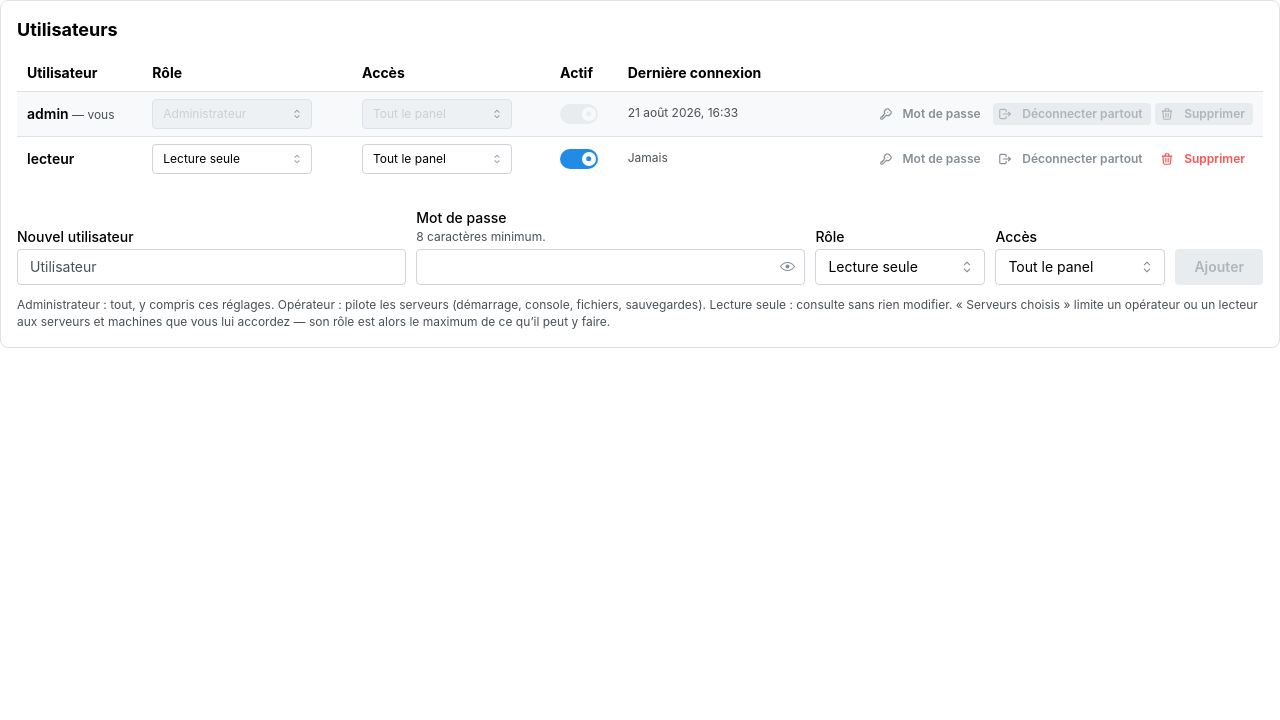
réglages — utilisateurs et audit › liste les comptes, protège le compte courant, crée un utilisateur
Expected: the text "— vous" is shown, 69,107 -> 114,122
Expected: the field with test id "user-role-admin" is disabled, 152,99 -> 312,129
Type "operateur" into the field with test id "user-create-username".
click(212, 267); type("operateur")  # box 17,249 -> 406,285
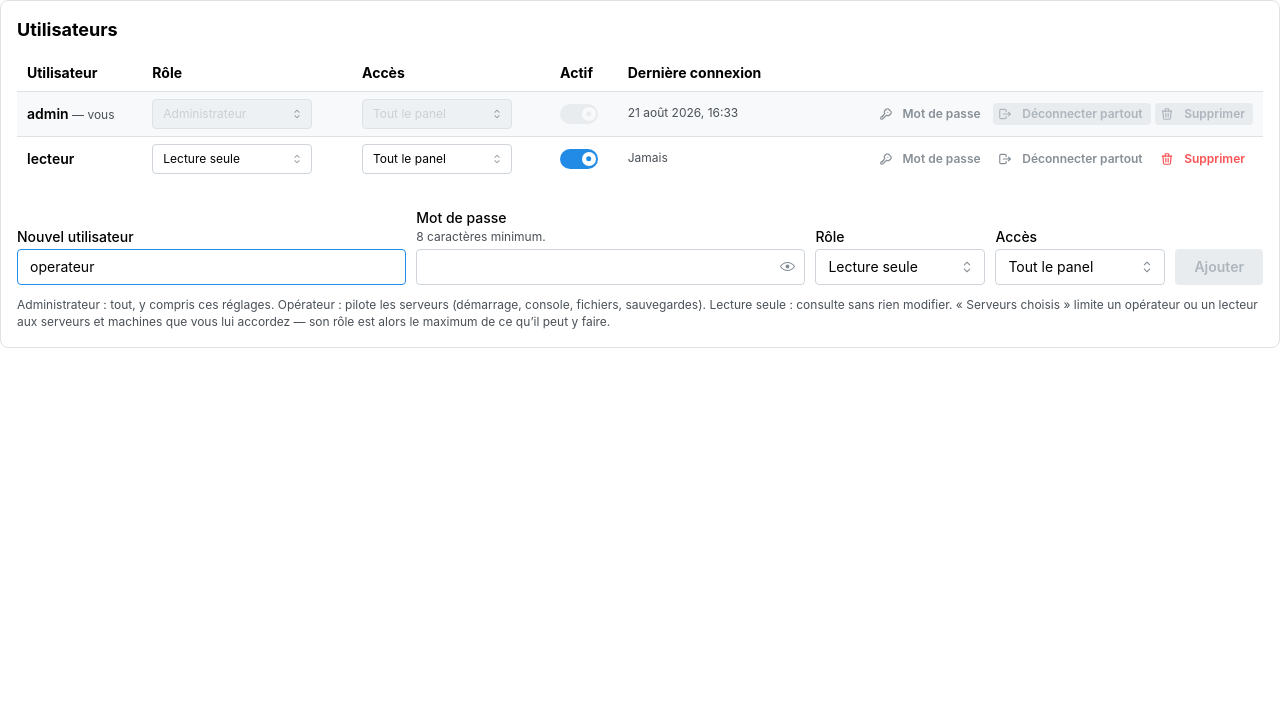
Type "correct horse battery" into the password field with test id "user-create-password".
click(611, 267); type("correct horse battery")  # box 417,250 -> 804,284
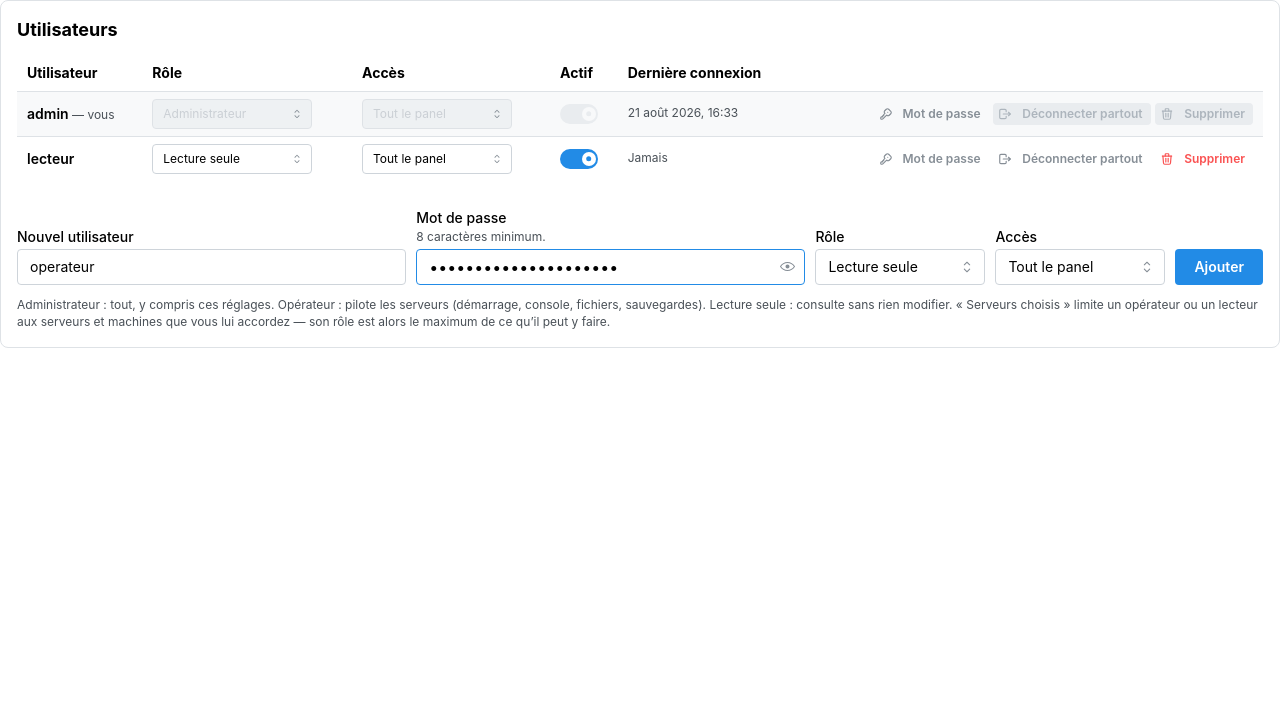
Click the button with test id "user-create-submit".
click(1219, 267)  # box 1175,249 -> 1263,285
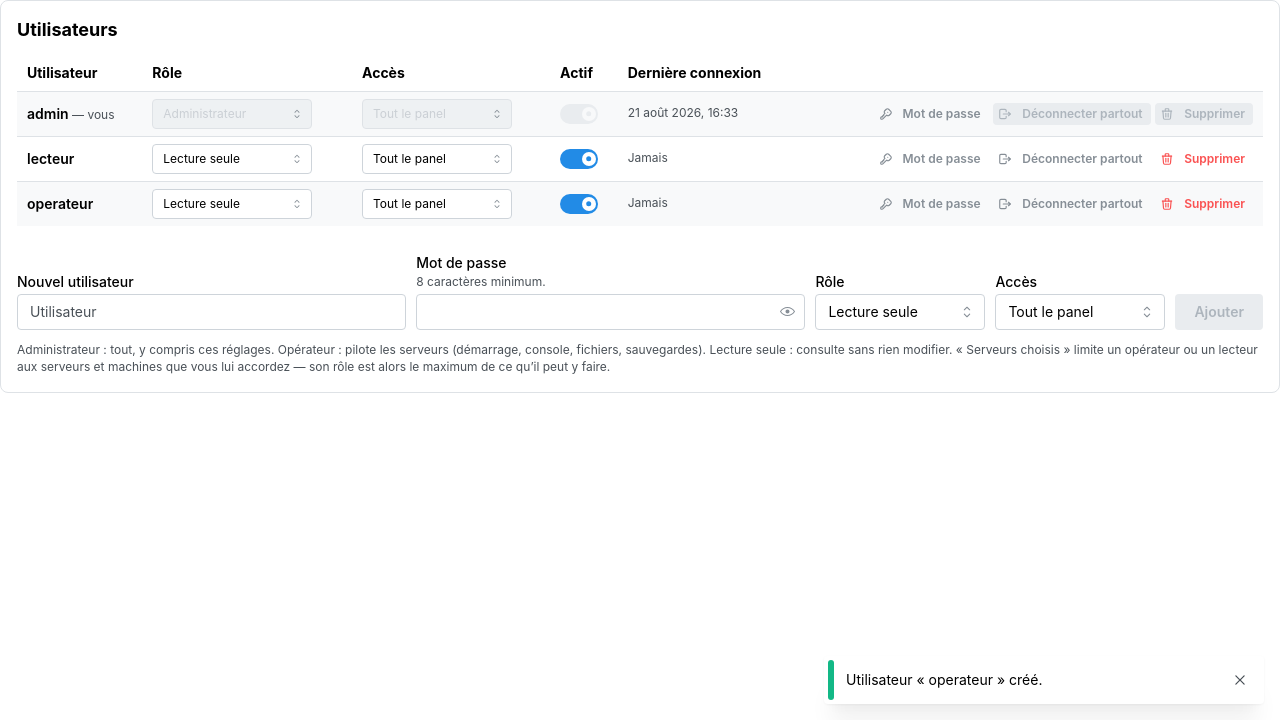
Now the row with test id "user-operateur" is shown, box 17,181 -> 1263,226
